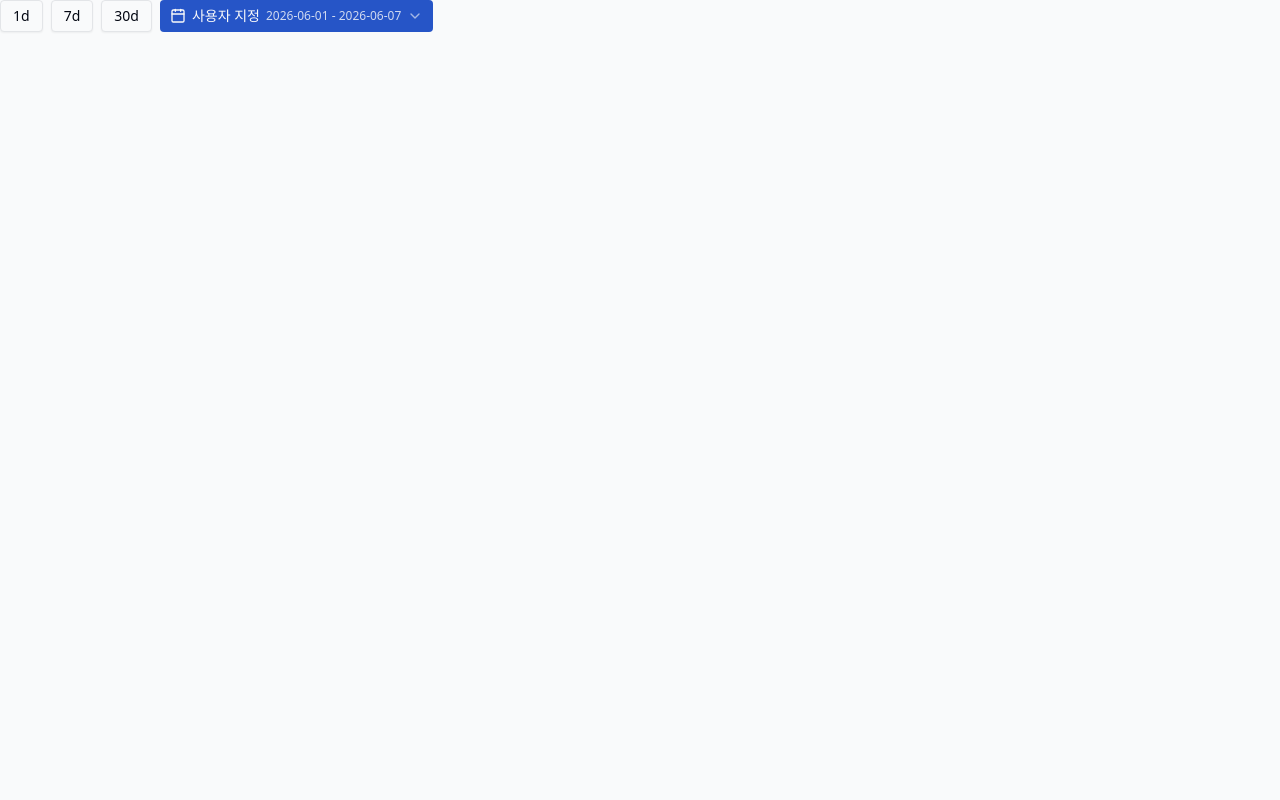
Test case: OverviewTimeframeSelect › localizes custom-range controls in ko
Click the button with aria-label "사용자 지정 기간: 2026-06-01부터 2026-06-07까지".
click(297, 16)  # box x1=160 y1=0 x2=433 y2=32
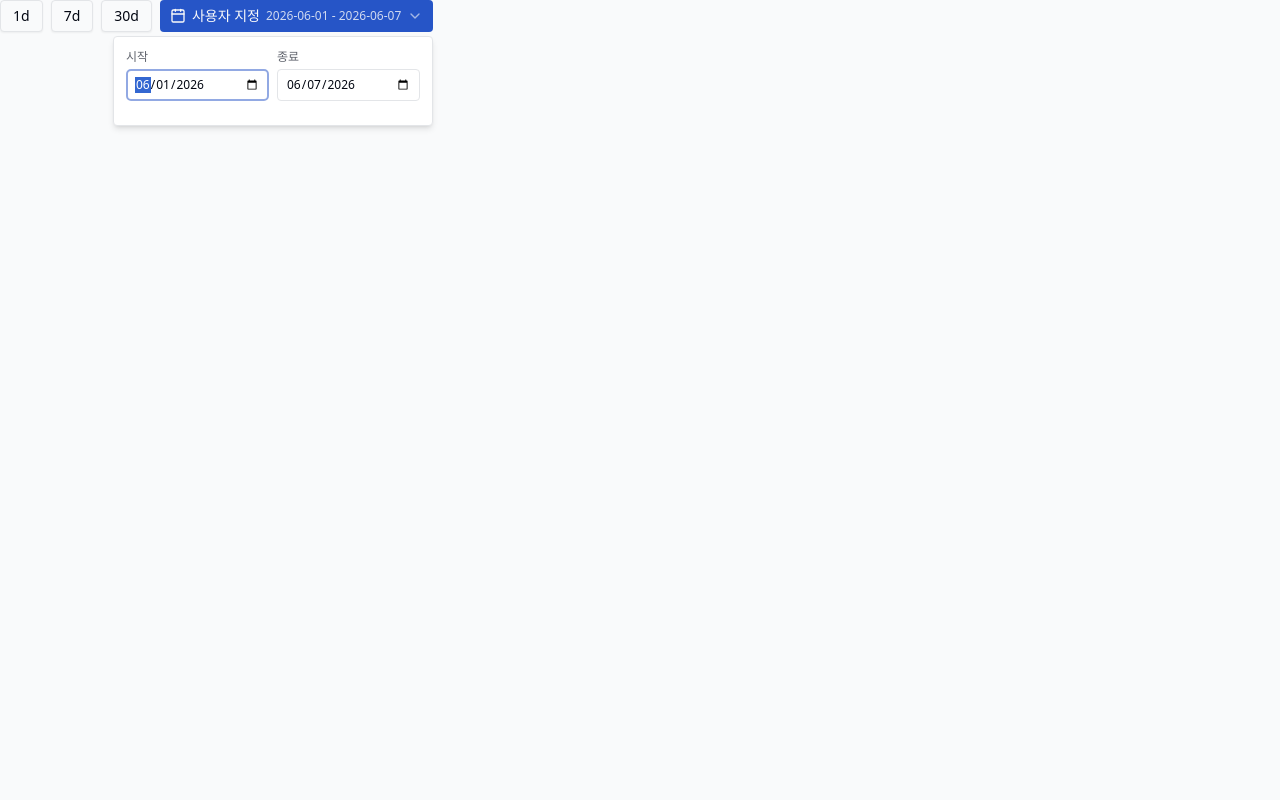
Check: the date field named "Dashboard 개요 시작일" is shown, box x1=126 y1=69 x2=269 y2=101
Check: the date field named "Dashboard 개요 종료일" is shown, box x1=277 y1=69 x2=420 y2=101
